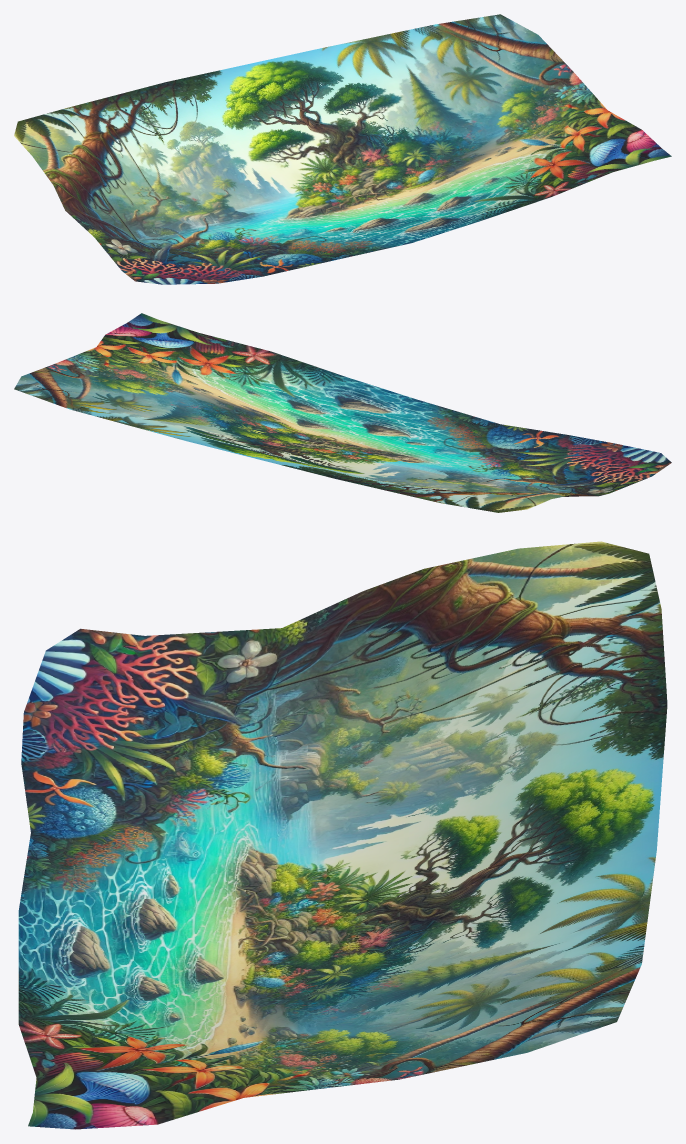
Rendered from BackgroundFBX.fbx.
The picture shows the model from 3 angles, top to bottom: view 1: azimuth 30°, elevation 25°; view 2: azimuth 150°, elevation 25°; view 3: azimuth 270°, elevation 25°; orthographic projection. The views are drawn at different scales.
Visible parts, largest first — view 1: DepthMapObj; view 2: DepthMapObj; view 3: DepthMapObj.
Part boxes in pixels (x1,y1,x2,y2): DepthMapObj: (14,14,671,284); DepthMapObj: (14,313,671,512); DepthMapObj: (18,541,667,1129).
Size of the model in its own units: 42697 by 5513 by 22792.
1 material, 1 textured.
